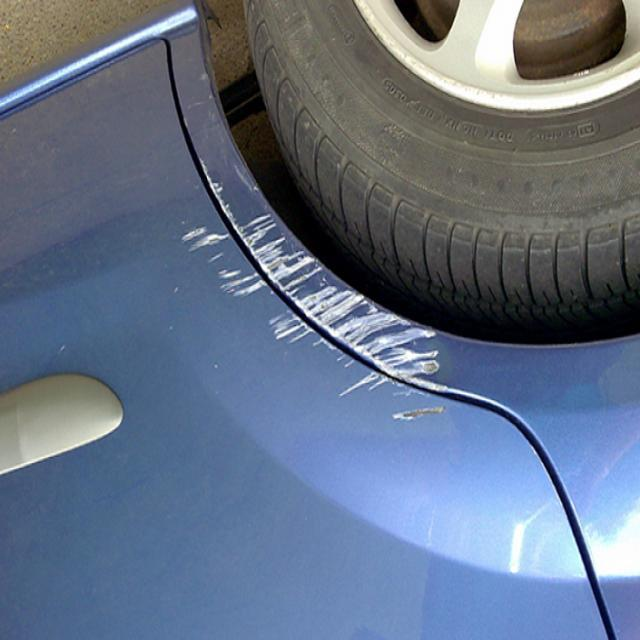scratch: (166, 180, 461, 442)
